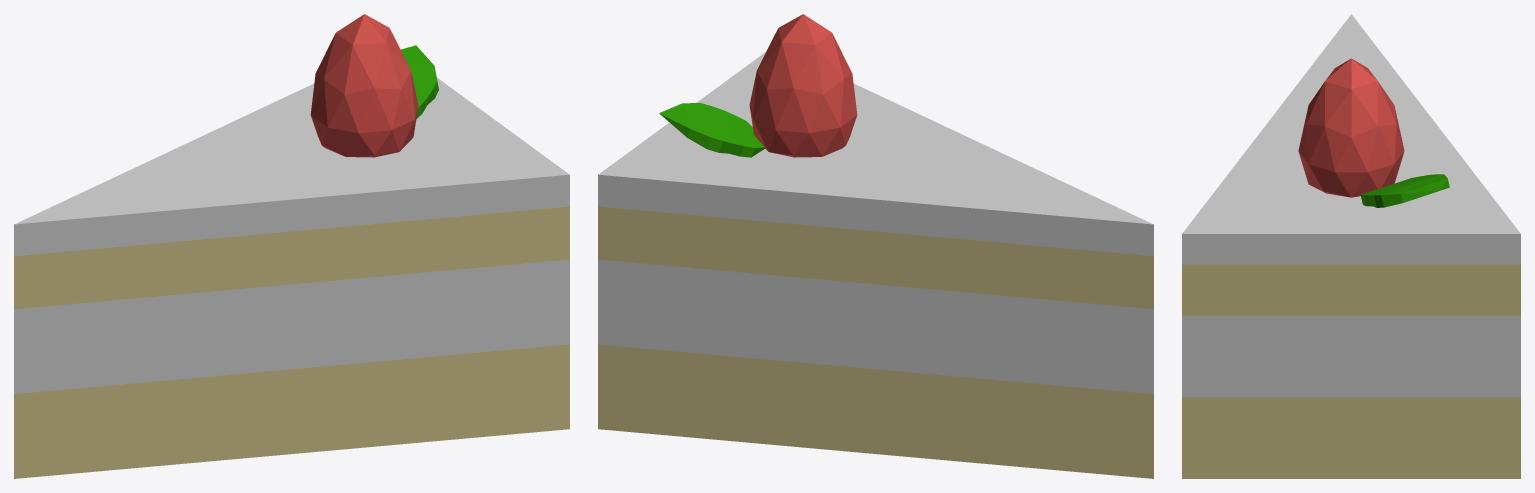
File: cakebom_kari_1.fbx
The picture shows the model from 3 angles, left to right: view 1: azimuth 30°, elevation 25°; view 2: azimuth 150°, elevation 25°; view 3: azimuth 270°, elevation 25°; orthographic projection. The views are drawn at different scales.
Visible parts, largest first — view 1: 立方体.009; view 2: 立方体.009; view 3: 立方体.009.
Part boxes in pixels (x1,y1,x2,y2): 立方体.009: (14,14,569,478); 立方体.009: (598,14,1153,478); 立方体.009: (1182,14,1520,478).
Size of the model in its own units: 45.35 by 35.15 by 29.53.
